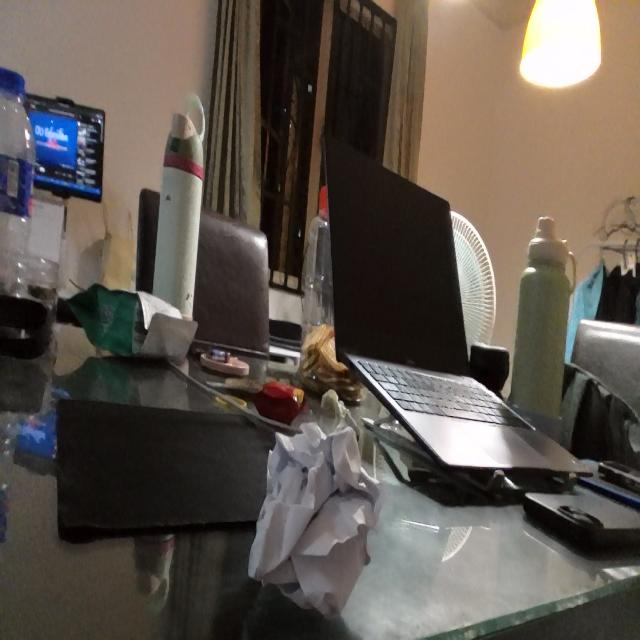crumpled_paper: (244, 422, 386, 626)
